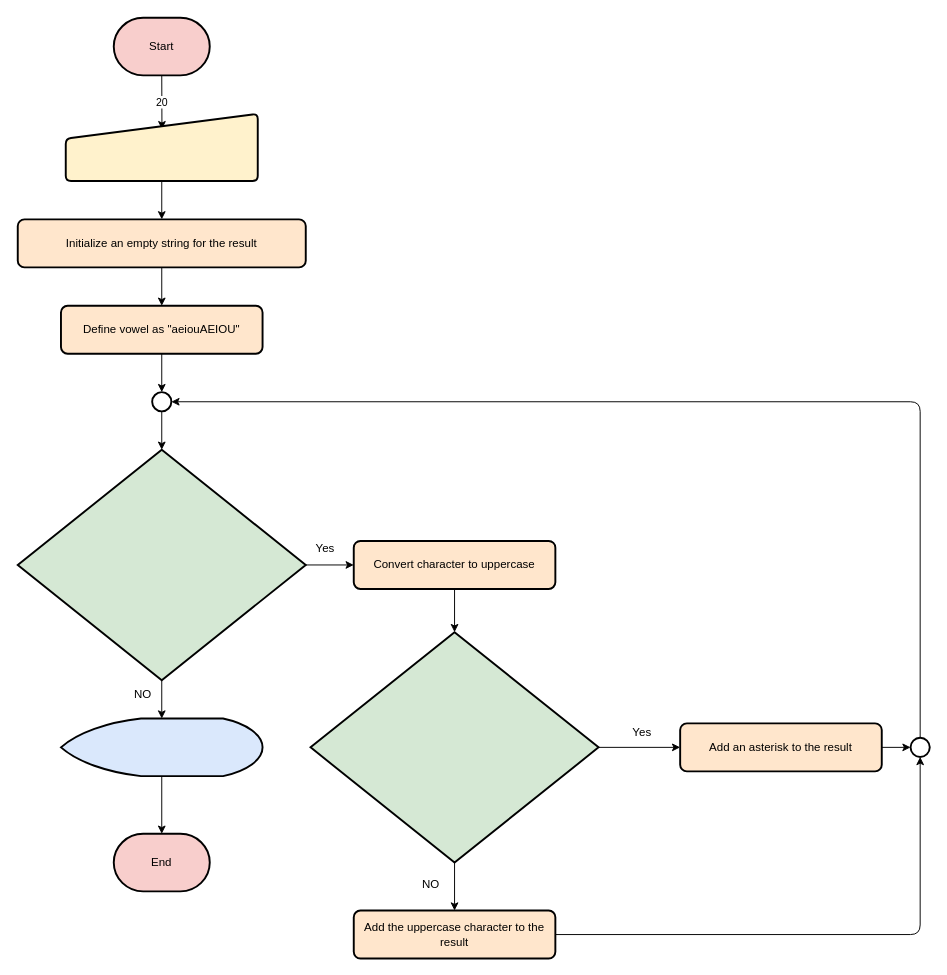
This 947x975 diagram has some shape labels left out. The shapes that lost their labels are listed below. From the top down, each one's centre as x and y in pixels, then its label:
At (x=161, y=146): "read input string from the user".
At (x=161, y=564): "More Characters in string?".
At (x=161, y=747): "Print the modified string".
At (x=454, y=747): "Is character a vowel?".
